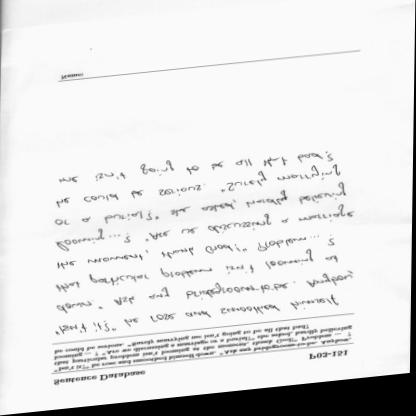Handwritten text: (53, 274, 353, 319), (48, 170, 348, 213), (58, 147, 327, 194), (53, 255, 350, 297), (53, 299, 343, 340), (49, 235, 310, 279), (145, 207, 358, 251), (170, 188, 360, 221), (43, 209, 145, 232), (38, 229, 111, 260)
